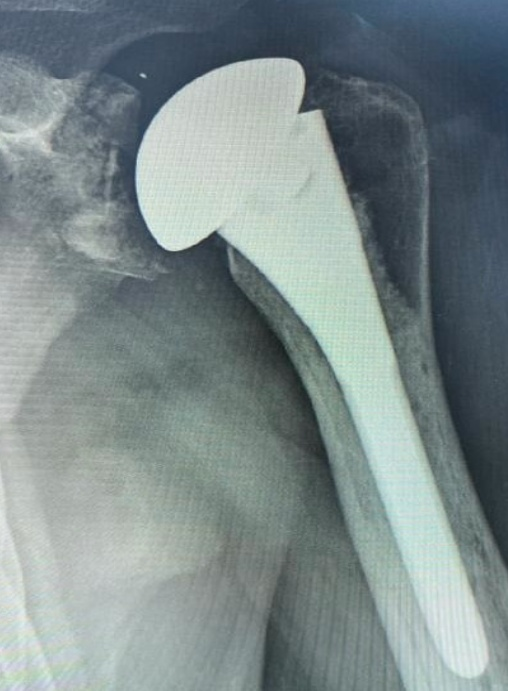Shoulder - Anotomical - Stryker: (124, 54, 365, 255)
